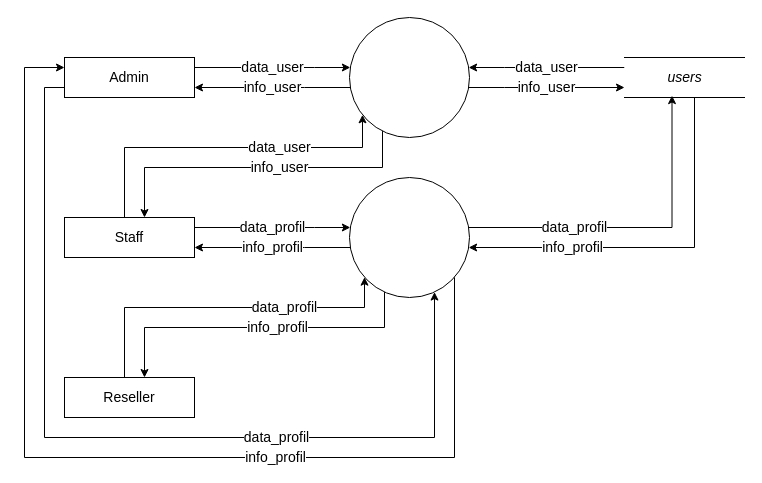
Some shapes in this 762 by 483 pixel diagram are drawn without their labels. Each missing label, with the centre of its shape:
3.1 Kelola User: point (409, 77)
3.2 Ubah Profil: point (409, 237)
